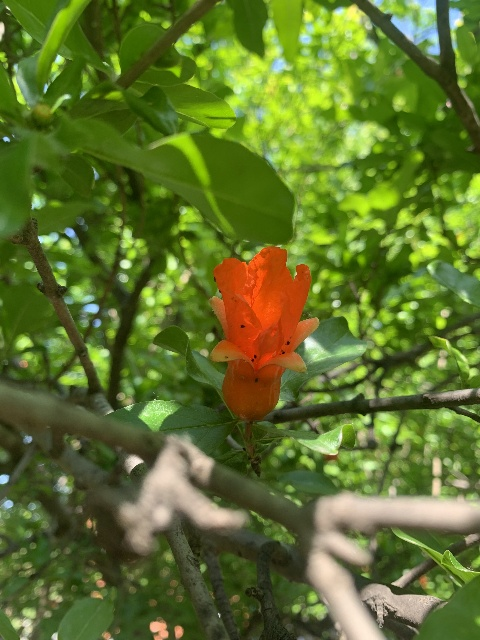flower: (208, 244, 319, 421)
